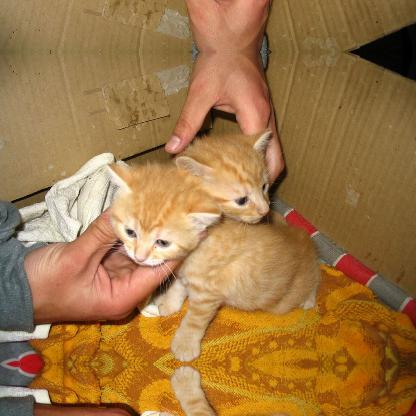Cat: (93, 162, 323, 360), (171, 128, 287, 232), (93, 367, 324, 415)
